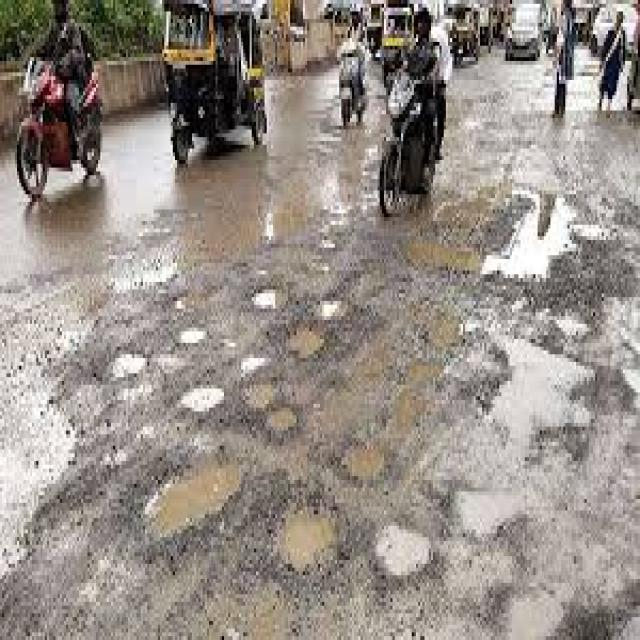Pothole: (506, 343, 589, 450), (156, 469, 239, 533), (510, 202, 574, 274), (382, 533, 427, 579), (412, 244, 480, 270), (471, 495, 516, 533), (288, 522, 331, 552), (179, 389, 224, 415), (348, 450, 382, 480), (290, 331, 322, 362), (527, 606, 557, 636), (111, 354, 143, 381), (265, 408, 297, 434)
